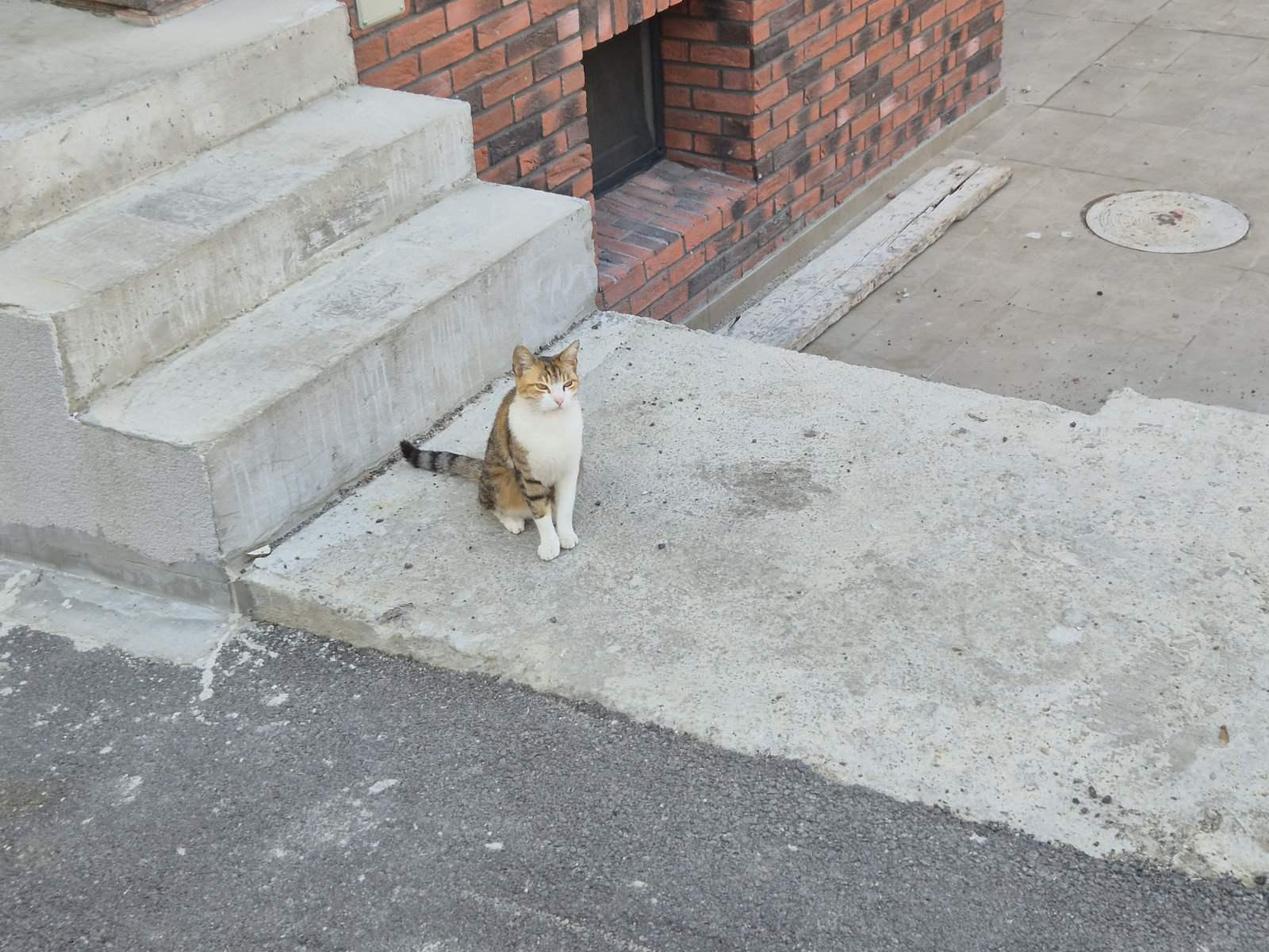macka: (400, 339, 586, 563)
